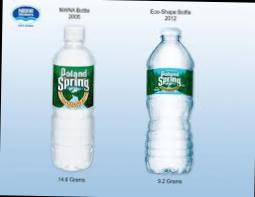plastic: (134, 19, 212, 184), (40, 17, 110, 178)
